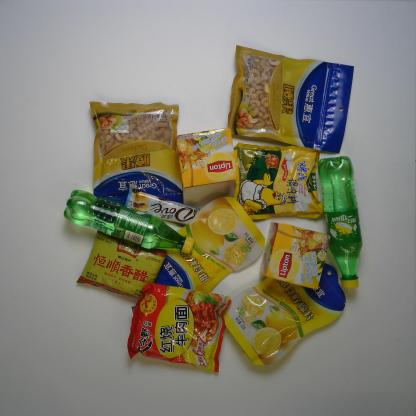Chocolate: (122, 186, 200, 224)
Dried Fruit: (227, 41, 358, 156), (224, 263, 348, 368), (157, 195, 267, 291), (85, 98, 182, 201)
Drink: (61, 186, 195, 257), (316, 154, 366, 292)
Instant Drink: (258, 221, 332, 291), (175, 124, 240, 191)
Instant Noodles: (124, 280, 232, 375)
Seasoner: (235, 141, 323, 221), (73, 230, 169, 298)
